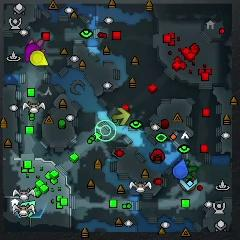p1: (172, 159, 187, 180)
p3: (25, 42, 41, 63)
p4: (31, 50, 48, 66)
x1: (28, 38, 45, 47)
x2: (112, 107, 130, 125)
x3: (180, 178, 199, 191)
x4: (185, 159, 199, 179)
